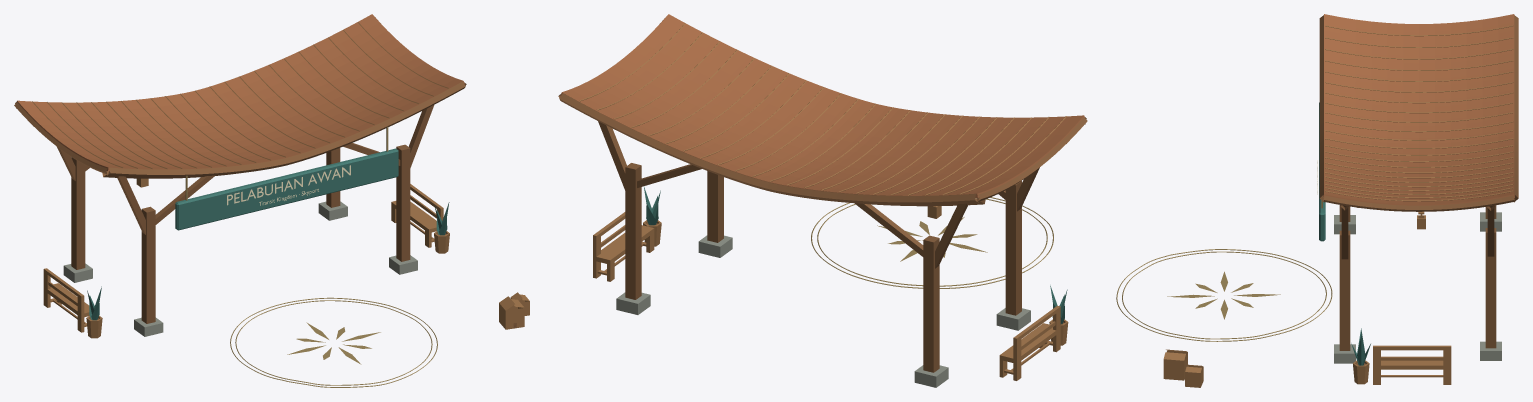
The model's file is pelabuhan-awan.glb.
The picture shows the model from 3 angles, left to right: view 1: azimuth 30°, elevation 25°; view 2: azimuth 150°, elevation 25°; view 3: azimuth 270°, elevation 25°; orthographic projection. The views are drawn at different scales.
Visible parts, largest first — view 1: Pelabuhan / C1 / terracotta, Pelabuhan / C1 / oiled timber, Pelabuhan / S2A / cut timber edges, Pelabuhan / Skyport / enamel jade.001, Pelabuhan / C1 / weathered bronze, Pelabuhan / C1 / warm volcanic stone, Pelabuhan / Skyport / warm ivory lettering.001; view 2: Pelabuhan / C1 / terracotta, Pelabuhan / C1 / oiled timber, Pelabuhan / S2A / cut timber edges, Pelabuhan / C1 / warm volcanic stone, Pelabuhan / C1 / weathered bronze, Pelabuhan / Skyport / enamel jade.001; view 3: Pelabuhan / C1 / terracotta, Pelabuhan / S2A / cut timber edges, Pelabuhan / C1 / oiled timber, Pelabuhan / C1 / weathered bronze, Pelabuhan / C1 / warm volcanic stone, Pelabuhan / Skyport / enamel jade.001.
Part boxes in pixels (<box>): Pelabuhan / C1 / terracotta: <box>16,14,464,171</box>; Pelabuhan / C1 / oiled timber: <box>14,17,516,328</box>; Pelabuhan / S2A / cut timber edges: <box>32,22,529,338</box>; Pelabuhan / Skyport / enamel jade.001: <box>87,148,449,320</box>; Pelabuhan / C1 / weathered bronze: <box>185,126,437,387</box>; Pelabuhan / C1 / warm volcanic stone: <box>63,201,417,336</box>; Pelabuhan / Skyport / warm ivory lettering.001: <box>227,165,350,205</box>; Pelabuhan / C1 / terracotta: <box>560,14,1084,197</box>; Pelabuhan / C1 / oiled timber: <box>558,18,1087,372</box>; Pelabuhan / S2A / cut timber edges: <box>579,23,1068,380</box>; Pelabuhan / C1 / warm volcanic stone: <box>616,235,1030,387</box>; Pelabuhan / C1 / weathered bronze: <box>811,197,1053,288</box>; Pelabuhan / Skyport / enamel jade.001: <box>644,187,1067,324</box>; Pelabuhan / C1 / terracotta: <box>1323,14,1514,205</box>; Pelabuhan / S2A / cut timber edges: <box>1163,25,1513,387</box>; Pelabuhan / C1 / oiled timber: <box>1202,15,1518,384</box>; Pelabuhan / C1 / weathered bronze: <box>1116,200,1332,341</box>; Pelabuhan / C1 / warm volcanic stone: <box>1334,212,1501,363</box>; Pelabuhan / Skyport / enamel jade.001: <box>1319,102,1370,365</box>.
Bounding box in the file's own units: 9.39 × 4.64 × 8.68.
